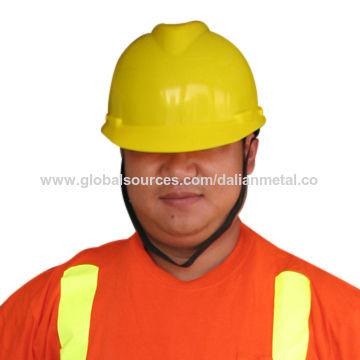helmet: (100, 20, 269, 155)
